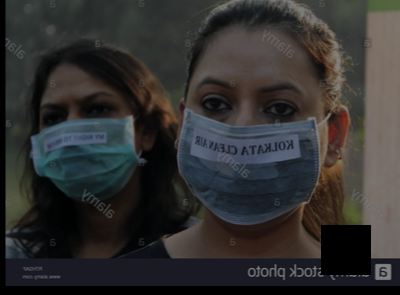with_mask: (176, 71, 327, 227), (31, 87, 139, 203)
